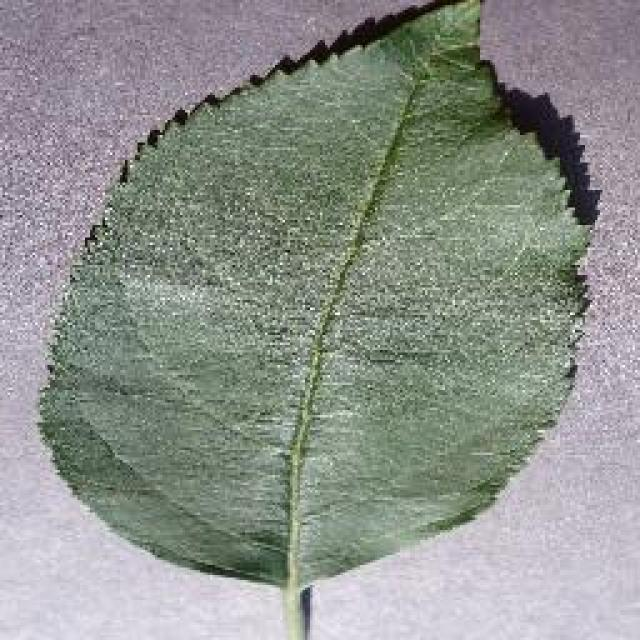apple healthy: (32, 0, 595, 632)
